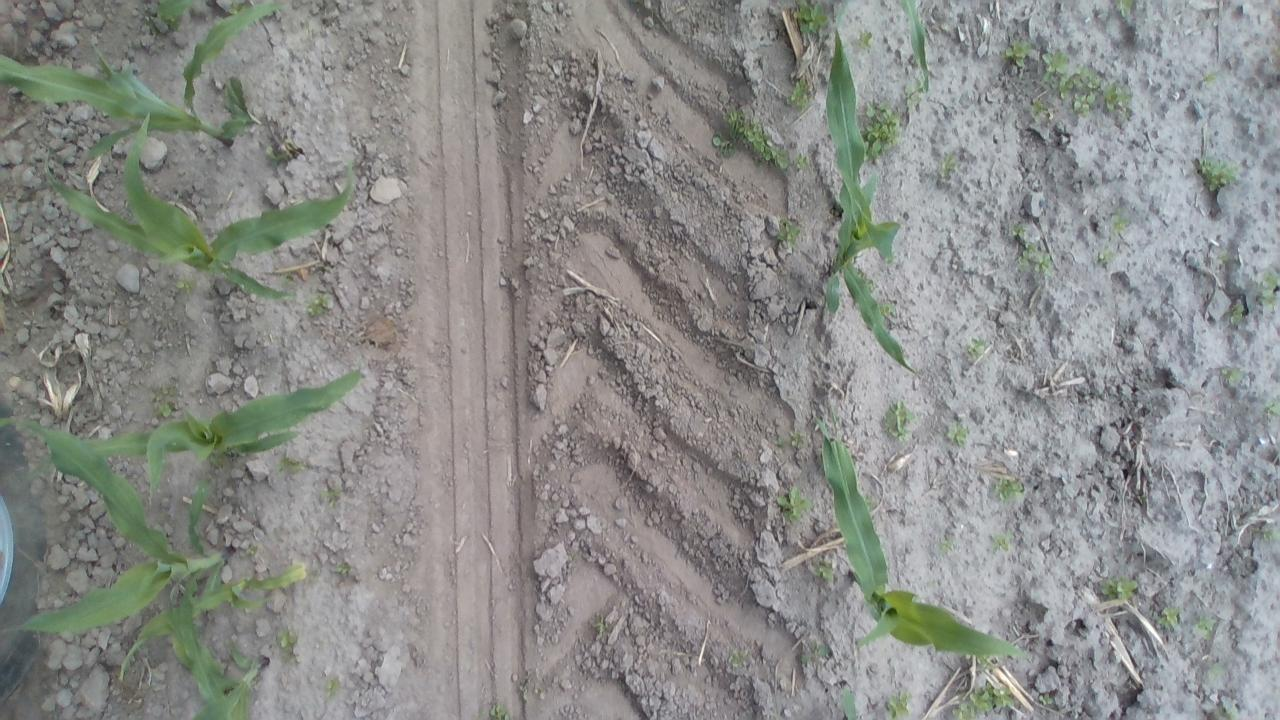Maize: (0, 416, 310, 705), (35, 108, 364, 302), (820, 416, 1034, 664), (0, 3, 289, 164), (11, 361, 370, 490), (812, 22, 918, 378), (112, 556, 308, 690), (140, 568, 280, 717), (899, 1, 930, 85), (151, 0, 229, 29), (836, 682, 868, 720)
Weeds: (716, 106, 794, 172), (1042, 58, 1125, 118), (858, 99, 902, 161), (1008, 222, 1052, 278), (950, 682, 1016, 719), (1192, 154, 1240, 196), (882, 398, 916, 444), (776, 483, 814, 524), (794, 0, 830, 36), (1096, 572, 1138, 601), (772, 213, 806, 248), (150, 385, 182, 422), (266, 134, 300, 166), (987, 475, 1026, 501), (1002, 37, 1034, 68), (304, 288, 334, 320), (787, 76, 814, 111), (148, 2, 190, 24), (278, 626, 302, 664), (884, 689, 914, 719), (797, 642, 831, 668), (1256, 266, 1276, 308), (317, 481, 347, 508), (1108, 205, 1132, 238), (902, 77, 926, 110), (1192, 612, 1220, 640), (941, 419, 969, 446), (778, 429, 807, 454), (478, 700, 516, 719), (272, 456, 308, 476), (810, 556, 837, 582), (1158, 604, 1184, 631), (727, 642, 752, 670), (936, 151, 960, 180), (989, 530, 1014, 556), (853, 28, 876, 54), (1215, 246, 1241, 269), (965, 337, 992, 359), (1225, 300, 1247, 327), (591, 610, 612, 637), (329, 558, 357, 578), (1200, 660, 1225, 682), (1255, 521, 1280, 543), (322, 675, 344, 700), (1106, 0, 1136, 18), (1222, 366, 1246, 388), (971, 652, 1000, 670), (1096, 248, 1122, 268), (1028, 96, 1050, 118), (876, 300, 900, 320), (938, 534, 959, 556), (172, 277, 196, 296), (1263, 40, 1280, 65), (1262, 394, 1276, 424), (1198, 68, 1218, 88), (1034, 692, 1056, 710), (208, 450, 230, 468), (1216, 703, 1242, 718), (219, 0, 243, 16), (792, 152, 811, 172), (1132, 484, 1150, 505), (320, 258, 338, 278), (278, 269, 296, 287), (246, 543, 262, 560), (888, 252, 901, 270)
